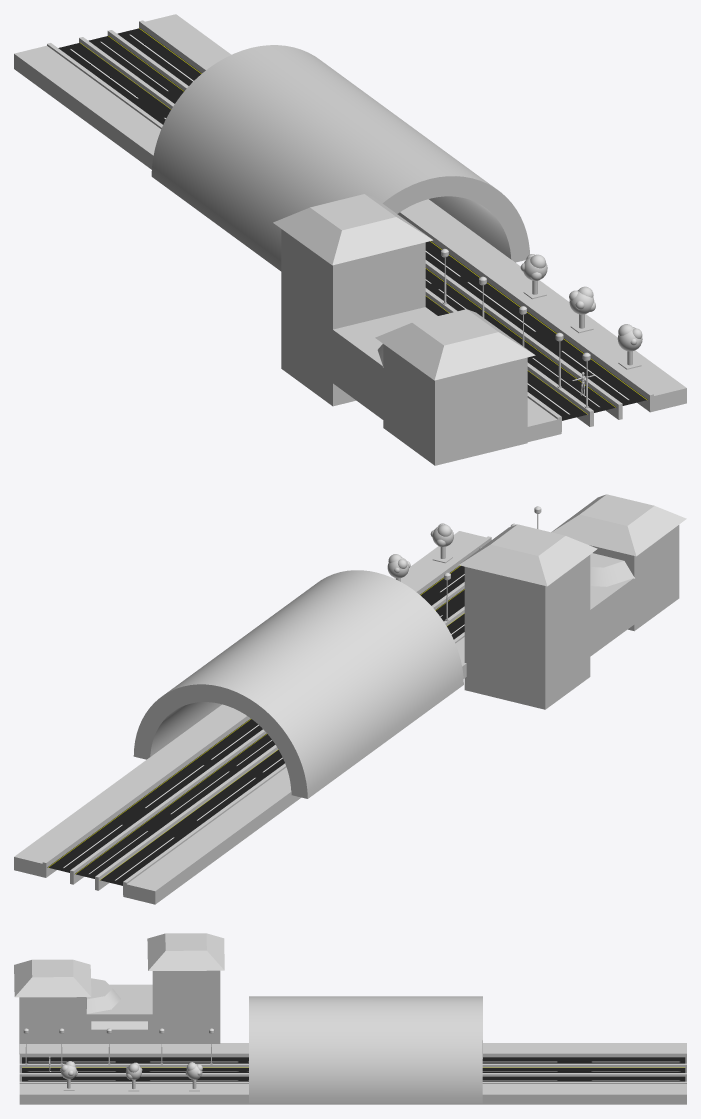
The model's file is platformdeneme.fbx.
3 renders of one model, top to bottom at view 1: azimuth 30°, elevation 25°; view 2: azimuth 150°, elevation 25°; view 3: azimuth 270°, elevation 25°, orthographic. The views are drawn at different scales.
Parts seen in each view (by area): view 1: Tube_1, Cube_2_4, Cube_3_3, Cone, Cone_2, Cube_3, Cube_2_11, Cube_1_3, ana_yol_sağ_3, Cube_2_3, ana_yol_3, ana_yol_1 (+14 smaller); view 2: Tube_1, Cube_2_4, Cube_3, Cone_2, Cone, Cube_2, Cube_3_3, ana_yol_sağ, ana_yol_1, ana_yol, Cube_1_3, Cube_2_11 (+10 smaller); view 3: Tube_1, Cube_2_4, Cube_2_11, Cube_2, Cube_3_3, Cone, Cone_2, Cube_1_3, Cube_3, Cube_3_4, ana_yol_1_3, ana_yol_1 (+15 smaller).
Part boxes in pixels (<box>): Tube_1: <box>151,45,529,271</box>; Cube_2_4: <box>281,229,425,406</box>; Cube_3_3: <box>383,344,527,465</box>; Cone: <box>375,309,535,380</box>; Cone_2: <box>273,194,432,265</box>; Cube_3: <box>14,45,160,169</box>; Cube_2_11: <box>487,262,686,412</box>; Cube_1_3: <box>332,307,437,419</box>; ana_yol_sağ_3: <box>457,275,647,405</box>; Cube_2_3: <box>403,199,513,272</box>; ana_yol_3: <box>428,284,616,412</box>; ana_yol_1: <box>58,43,171,124</box>; Tube_1: <box>133,570,463,798</box>; Cube_2_4: <box>464,555,590,709</box>; Cube_3: <box>123,776,301,904</box>; Cone_2: <box>458,524,597,586</box>; Cone: <box>551,494,686,556</box>; Cube_2: <box>14,746,191,877</box>; Cube_3_3: <box>589,525,679,631</box>; ana_yol_sağ: <box>47,759,214,872</box>; ana_yol_1: <box>100,772,266,885</box>; ana_yol: <box>75,766,239,878</box>; Cube_1_3: <box>590,578,634,656</box>; Cube_2_11: <box>394,531,485,589</box>; Tube_1: <box>249,996,482,1103</box>; Cube_2_4: <box>152,970,220,1043</box>; Cube_2_11: <box>19,1084,245,1104</box>; Cube_2: <box>461,1084,686,1104</box>; Cube_3_3: <box>19,997,86,1053</box>; Cone: <box>14,959,91,997</box>; Cone_2: <box>147,933,224,970</box>; Cube_1_3: <box>86,984,152,1043</box>; Cube_3: <box>483,1043,686,1052</box>; Cube_3_4: <box>19,1043,245,1052</box>; ana_yol_1_3: <box>22,1057,243,1063</box>; ana_yol_1: <box>482,1057,685,1063</box>.
Bounding box in the file's own units: 3773 × 2142 × 12178.
1 material, 1 textured.
